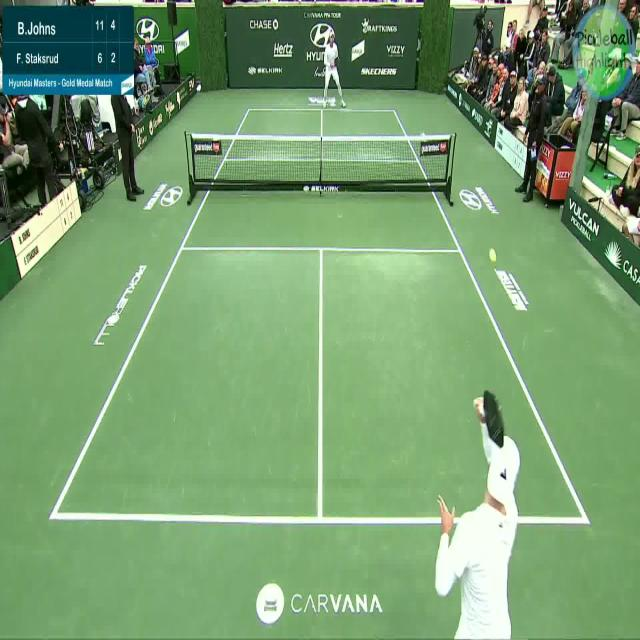ball: (487, 247, 498, 263)
